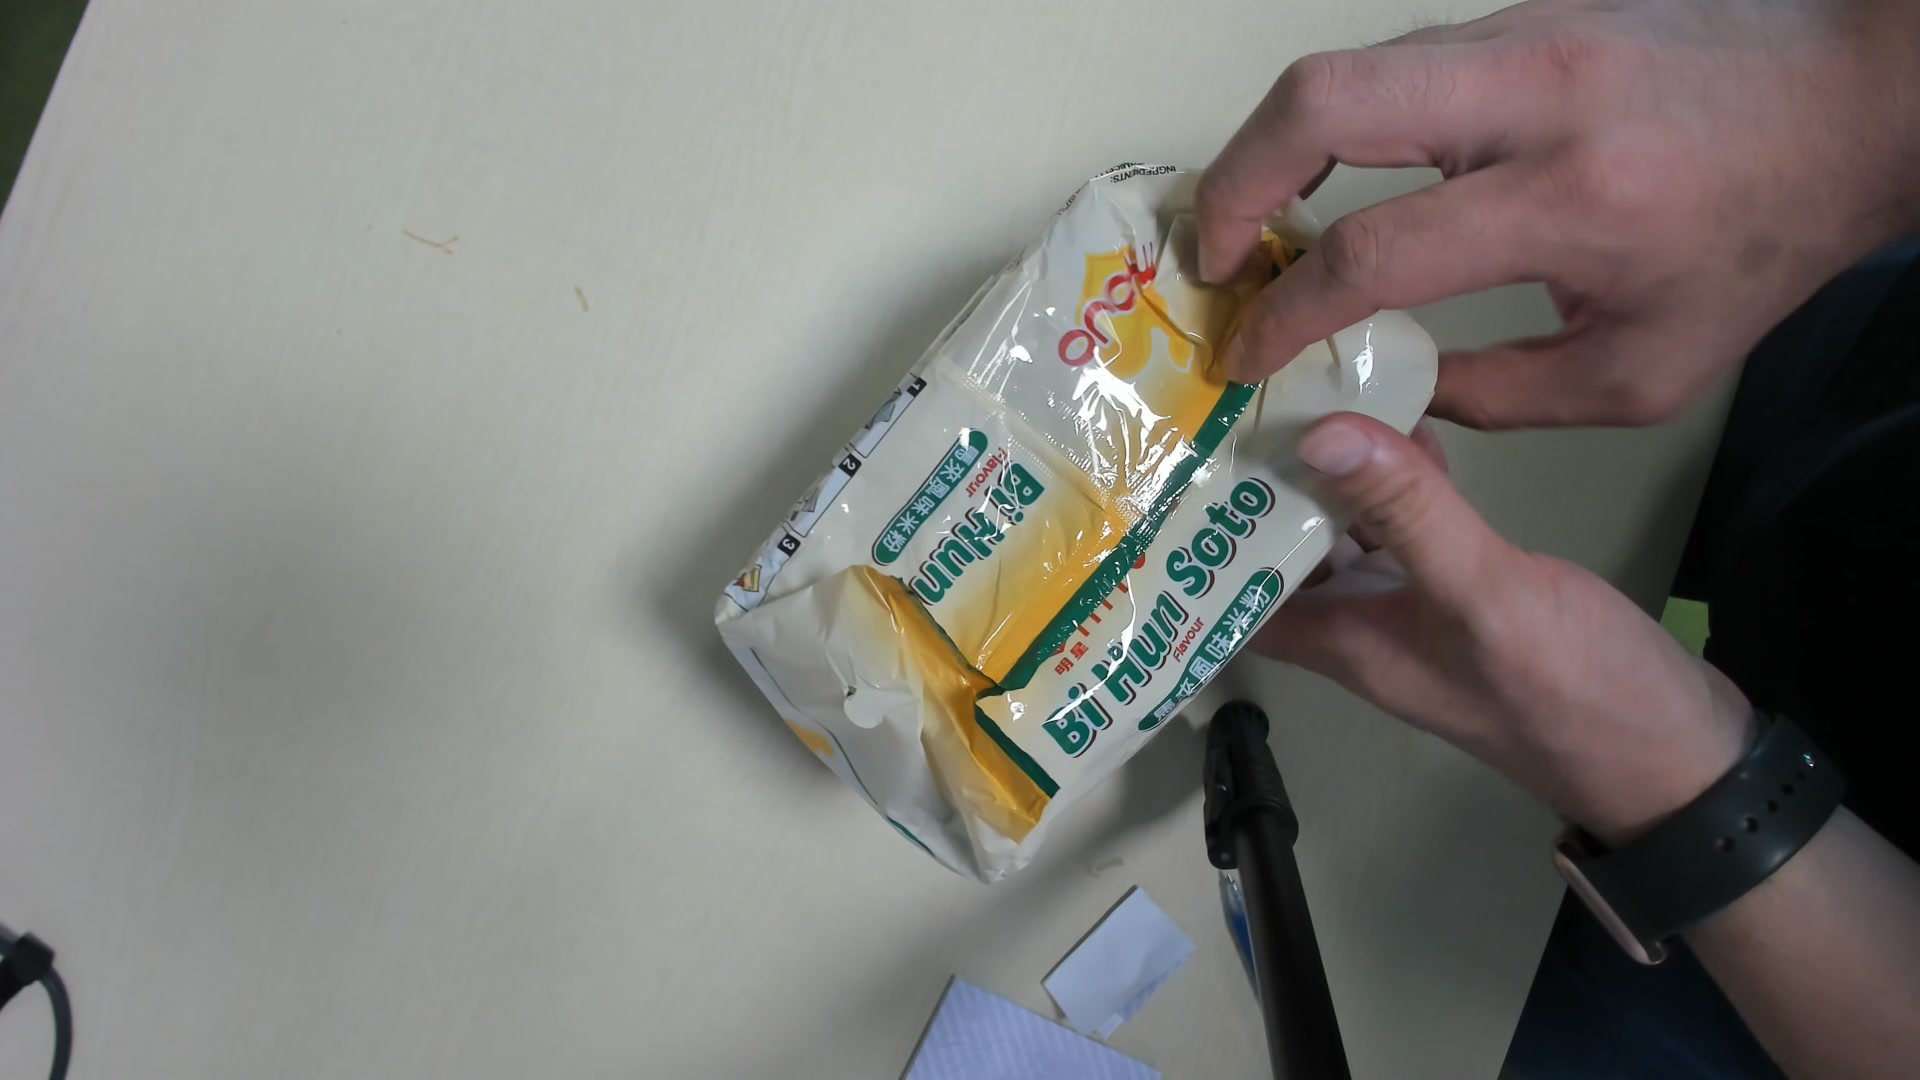OtherNoodles_400-499g_Halal_NonHealthy: (715, 162, 1443, 887)
